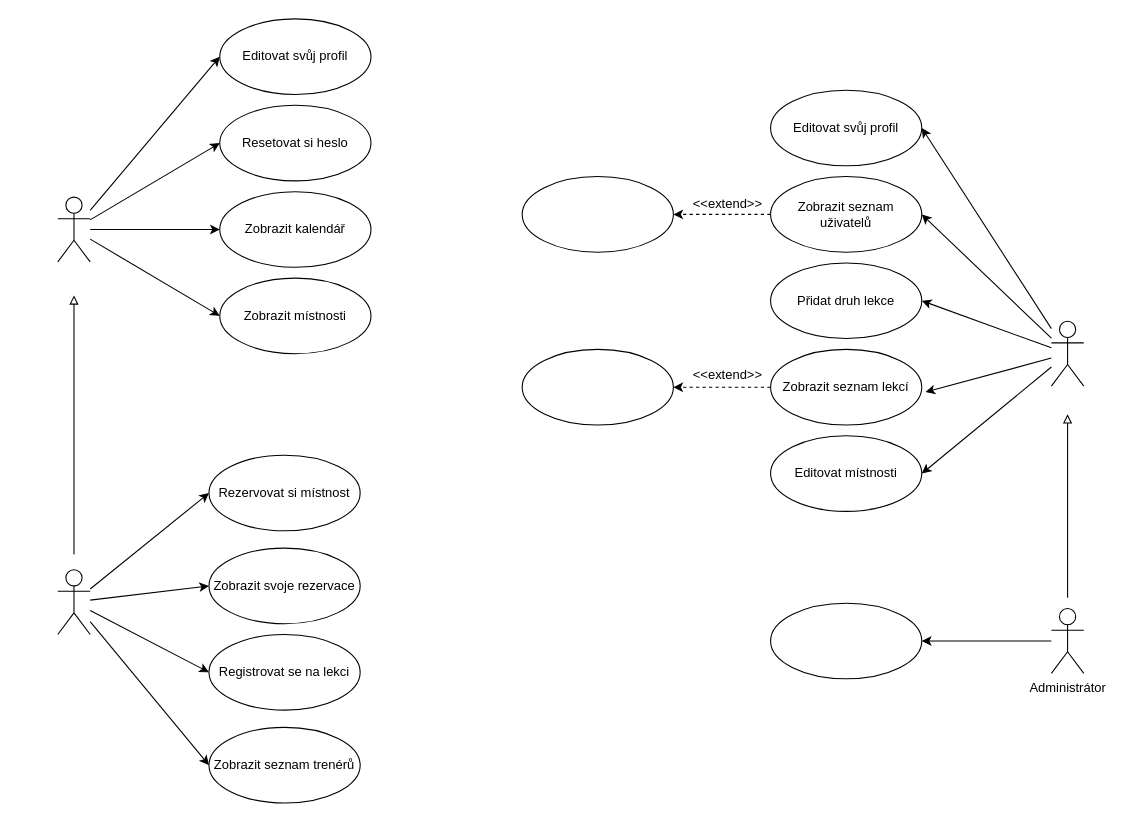
Image size: 1125x822. Some labels were removed from this diagram. Each missing label, with the box of its shape:
Editovat lekce: (521, 348, 673, 425)
Editovat uživatele včetně jeho rezervací: (521, 176, 673, 252)
Neověřený uživatel: (57, 196, 90, 262)
Ověřený uživatel: (57, 569, 90, 634)
Vytvořit zaměstnance: (770, 602, 922, 679)
Zaměstnanec: (1050, 320, 1084, 386)
